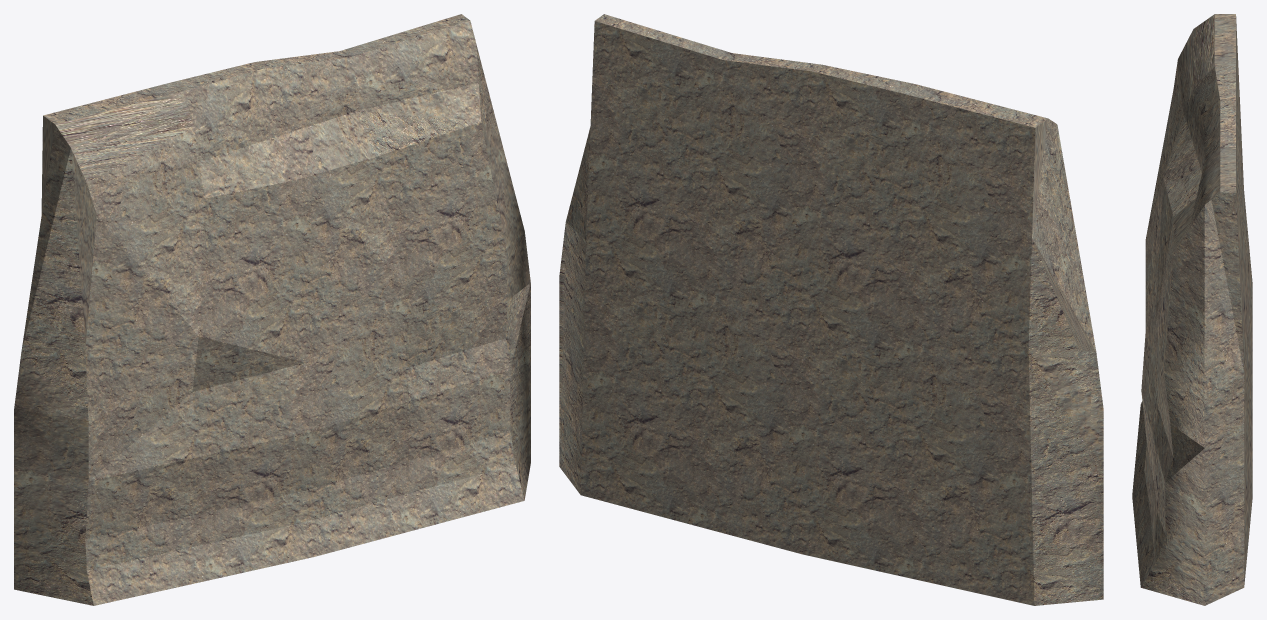
Rendered from Cliffwall2.fbx.
3 renders of one model, left to right at view 1: azimuth 30°, elevation 25°; view 2: azimuth 150°, elevation 25°; view 3: azimuth 270°, elevation 25°, orthographic. The views are drawn at different scales.
Parts seen in each view (by area): view 1: pasted__pCube1; view 2: pasted__pCube1; view 3: pasted__pCube1.
Boxes of the visible parts, <box> form: pasted__pCube1: <box>14,14,530,605</box>; pasted__pCube1: <box>559,14,1103,605</box>; pasted__pCube1: <box>1132,14,1252,605</box>.
Size of the model in its own units: 52.77 by 44.05 by 12.24.
1 material, 1 textured.
